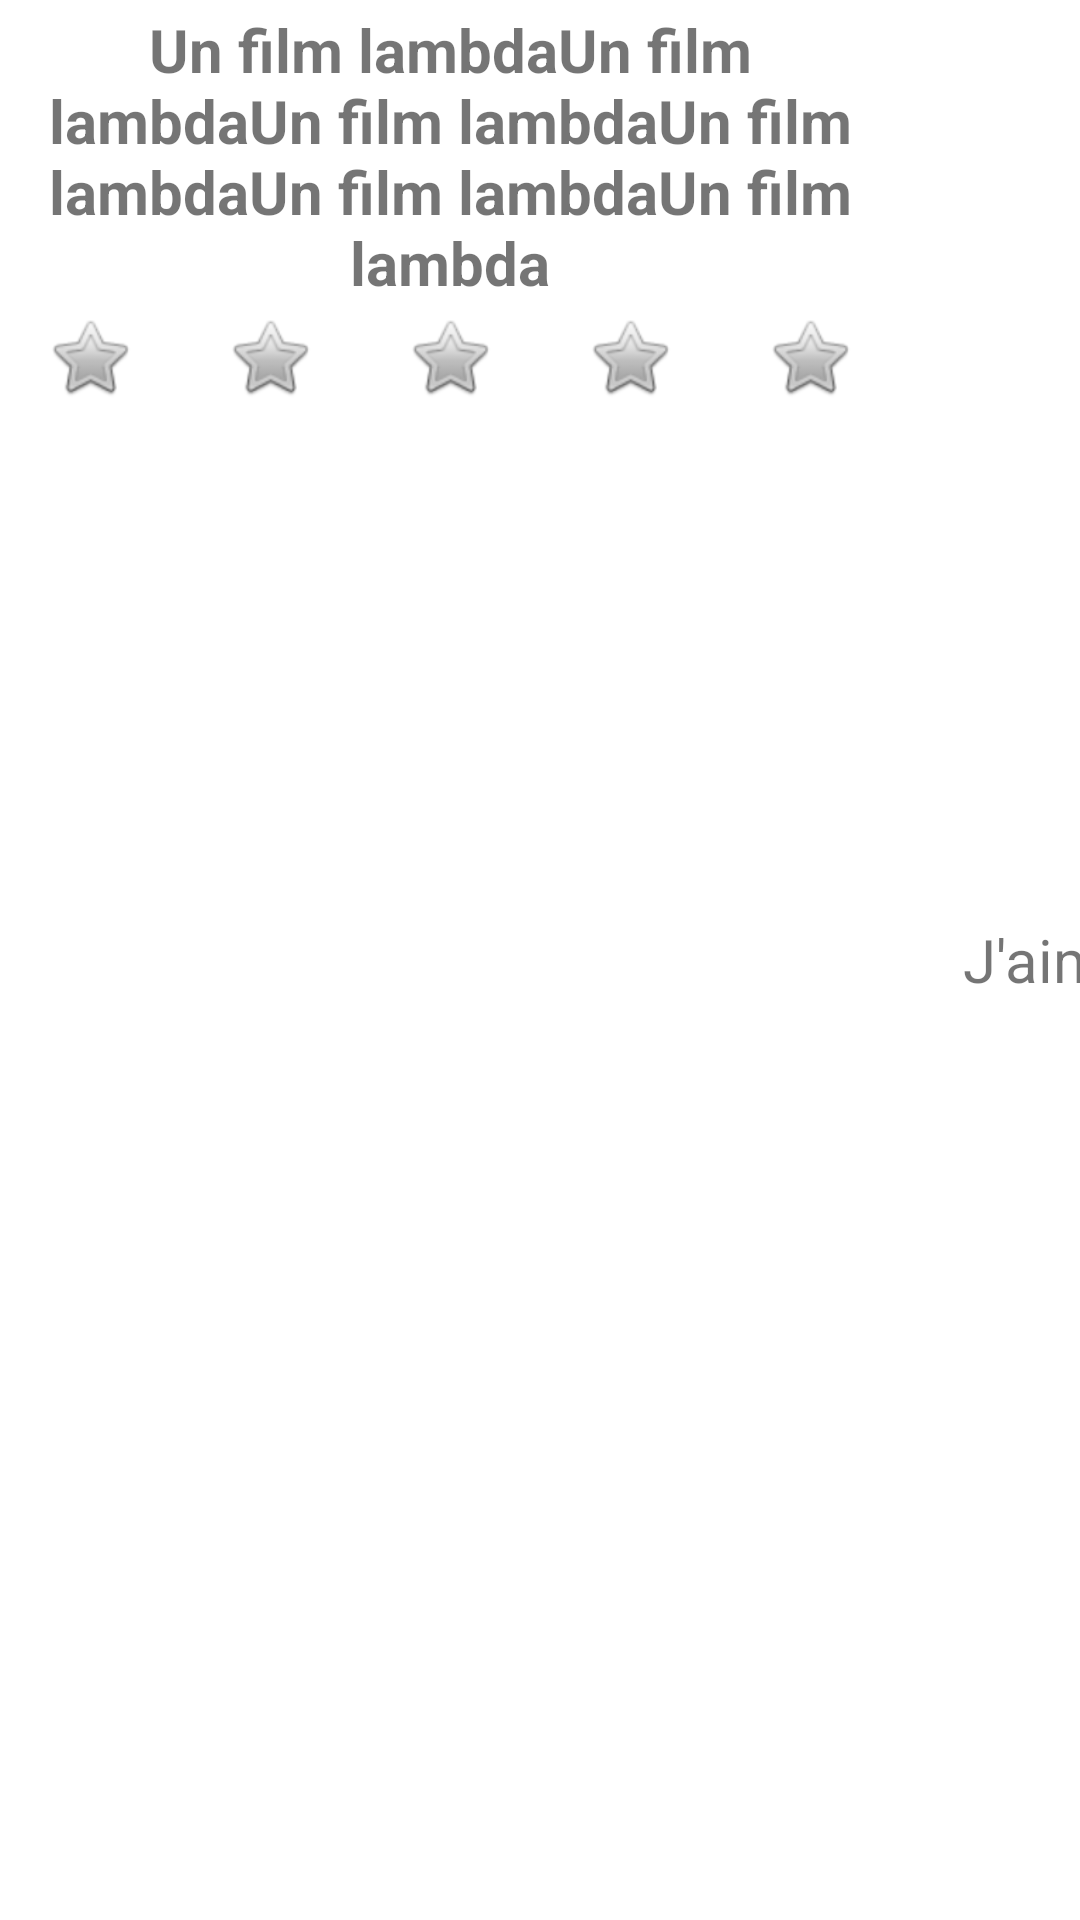

Icon bounding boxes for this 1080 × 1920 phone screenshot, format (x1, y1, x2, y2):
star off: (53, 321, 128, 394), (233, 321, 308, 394), (413, 321, 488, 394), (593, 321, 668, 394), (773, 321, 848, 394)
